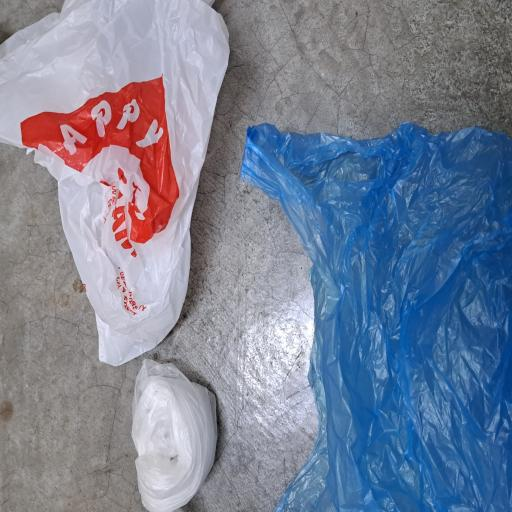plastic bag: (107, 0, 384, 308), (0, 320, 292, 512), (0, 173, 115, 294)
